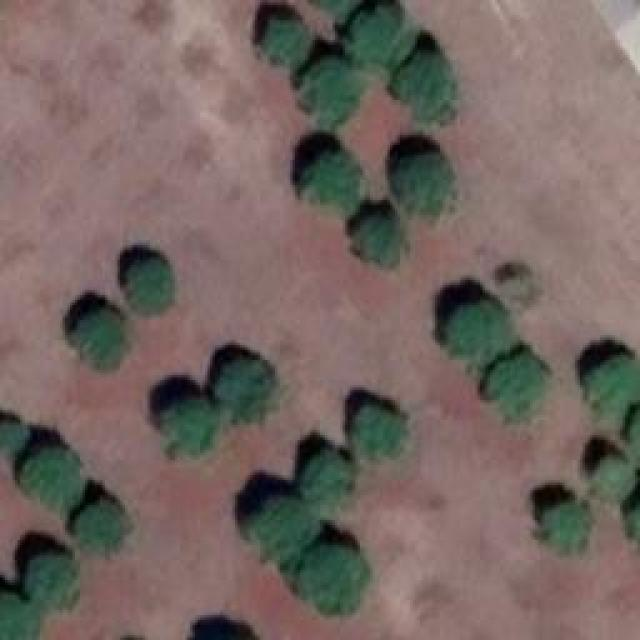Tree: (288, 533, 375, 619), (400, 45, 465, 120), (65, 297, 134, 367), (483, 343, 549, 415), (345, 0, 421, 62), (250, 492, 314, 564), (393, 140, 458, 210), (210, 350, 277, 416), (298, 143, 363, 210), (65, 495, 130, 559), (158, 390, 222, 453), (23, 448, 85, 513), (445, 295, 512, 355), (303, 53, 362, 120), (348, 403, 413, 462), (22, 550, 81, 612), (302, 450, 360, 512), (542, 495, 599, 556), (257, 8, 314, 64), (120, 253, 177, 309), (592, 348, 640, 411), (353, 200, 403, 260), (588, 452, 638, 499), (0, 585, 41, 640), (0, 415, 30, 461)
